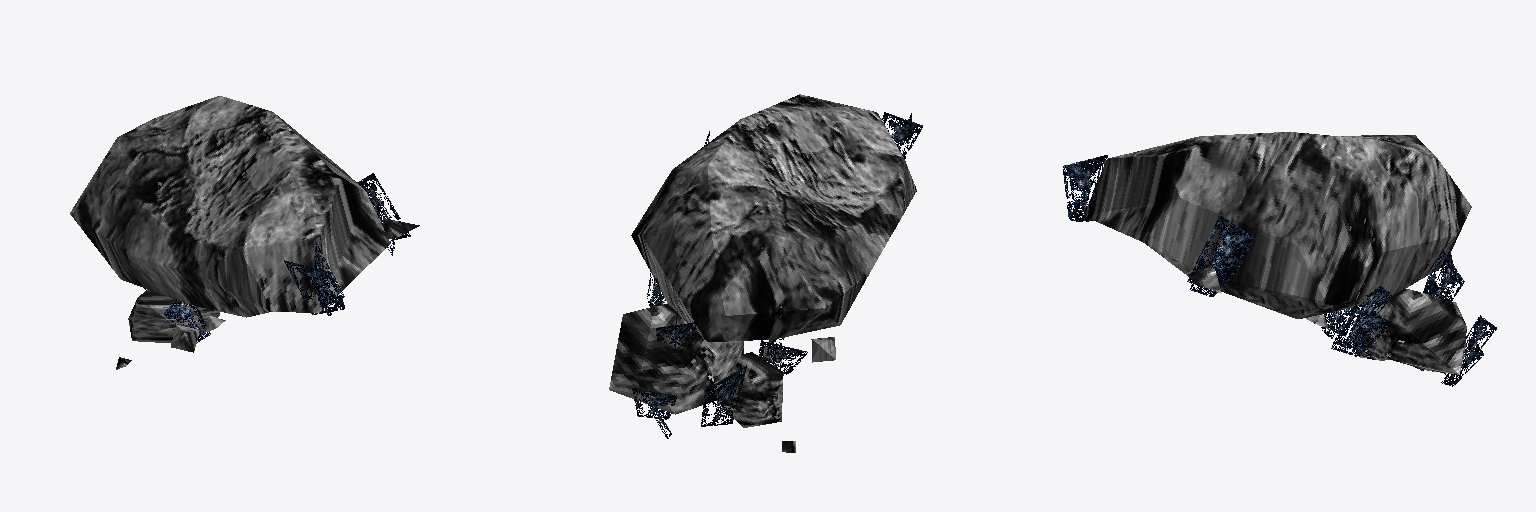
3 renders of one model, left to right at view 1: azimuth 30°, elevation 25°; view 2: azimuth 150°, elevation 25°; view 3: azimuth 270°, elevation 25°, orthographic.
Parts seen in each view (by area): view 1: Mesh_0, Mesh_1; view 2: Mesh_0, Mesh_1; view 3: Mesh_0, Mesh_1.
Part boxes in pixels (x1,y1,x2,y2): Mesh_0: (70,96,419,369); Mesh_1: (144,173,410,342); Mesh_0: (609,94,916,452); Mesh_1: (632,112,922,438); Mesh_0: (1084,132,1471,374); Mesh_1: (1063,155,1496,386).
Size of the model in its own units: 2.52 by 2.67 by 3.9.
2 materials, 2 textured.